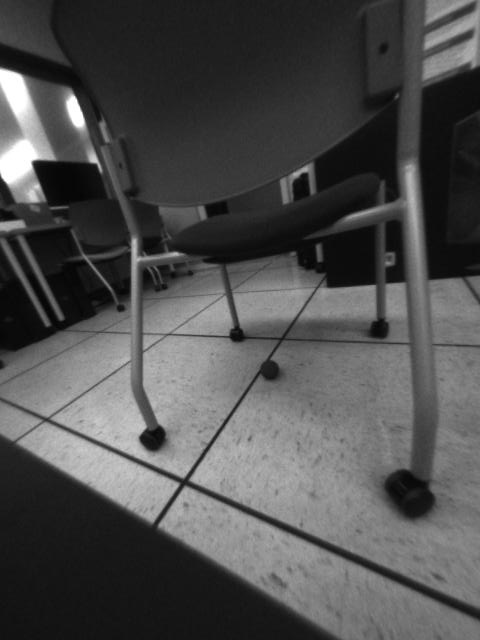dogtoy: (254, 354, 287, 383)
